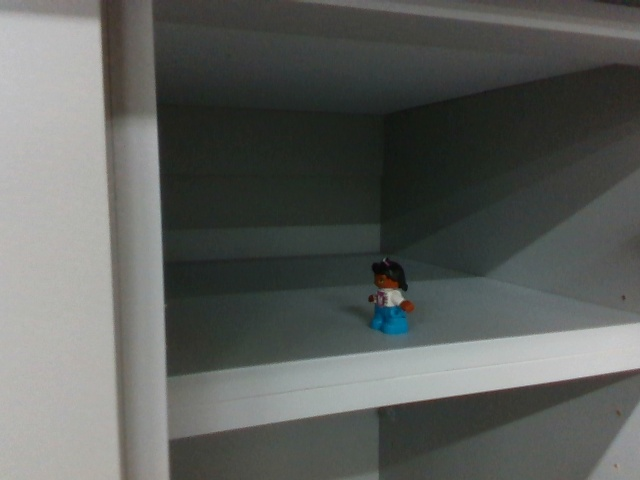people: (365, 256, 414, 339)
